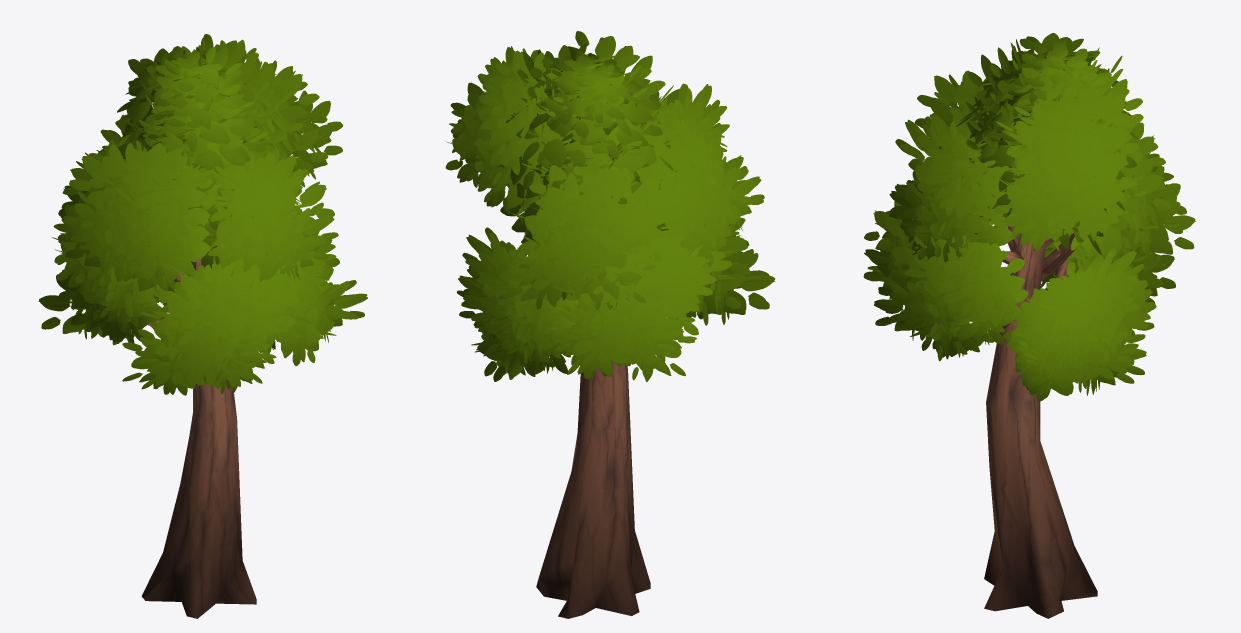
The model's file is CommonTree_1@lod.gltf.
3 views of the same model, side by side, from view 1: azimuth 30°, elevation 25°; view 2: azimuth 150°, elevation 25°; view 3: azimuth 270°, elevation 25° (orthographic). The views are drawn at different scales.
Parts seen in each view (by area): view 1: CommonTree_1; view 2: CommonTree_1; view 3: CommonTree_1.
Part boxes in pixels (x1,y1,x2,y2): CommonTree_1: (38,34,367,618); CommonTree_1: (445,31,775,618); CommonTree_1: (863,33,1196,618).
Size of the model in its own units: 4.31 by 7.26 by 4.58.
Materials: 2 (2 with a texture image).
